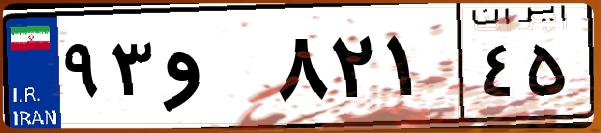1: (385, 28, 445, 110)
2: (330, 28, 385, 110)
3: (110, 28, 158, 98)
4: (475, 38, 525, 113)
5: (525, 38, 570, 115)
8: (270, 28, 330, 110)
9: (57, 26, 110, 100)
و: (158, 20, 270, 120)
